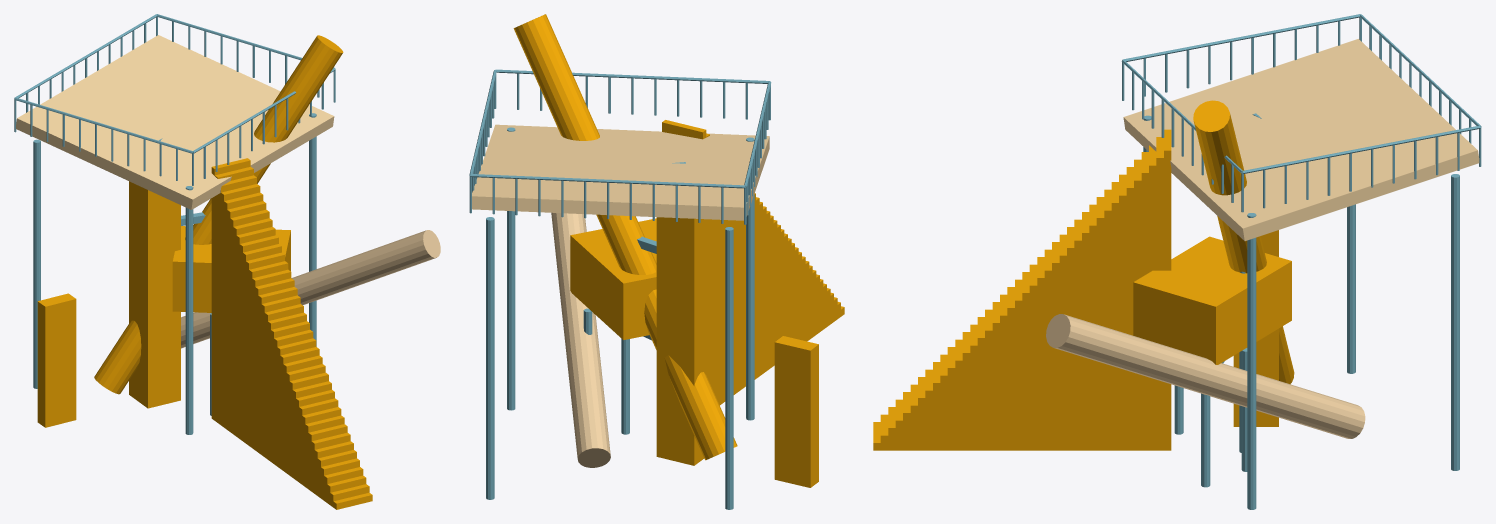
The model's file is folie_tag_059.glb.
3 renders of one model, left to right at view 1: azimuth 30°, elevation 25°; view 2: azimuth 150°, elevation 25°; view 3: azimuth 270°, elevation 25°, orthographic. The views are drawn at different scales.
Visible parts, largest first — view 1: folie_tag_059_stairs, folie_tag_059_00_plate, folie_tag_059_line, folie_tag_059_core, folie_tag_059_02_tube, folie_tag_059_03_tube, folie_tag_059_04_fin, folie_tag_059_01_block; view 2: folie_tag_059_00_plate, folie_tag_059_line, folie_tag_059_stairs, folie_tag_059_core, folie_tag_059_02_tube, folie_tag_059_03_tube, folie_tag_059_04_fin, folie_tag_059_01_block; view 3: folie_tag_059_stairs, folie_tag_059_00_plate, folie_tag_059_line, folie_tag_059_01_block, folie_tag_059_03_tube, folie_tag_059_02_tube, folie_tag_059_core.
Boxes of the visible parts, bbox=[...] form: folie_tag_059_stairs: bbox=[211, 158, 372, 509]; folie_tag_059_00_plate: bbox=[16, 35, 334, 209]; folie_tag_059_line: bbox=[14, 14, 335, 434]; folie_tag_059_core: bbox=[129, 181, 180, 408]; folie_tag_059_02_tube: bbox=[94, 35, 343, 394]; folie_tag_059_03_tube: bbox=[181, 230, 440, 348]; folie_tag_059_04_fin: bbox=[37, 293, 76, 427]; folie_tag_059_01_block: bbox=[172, 226, 290, 312]; folie_tag_059_00_plate: bbox=[472, 124, 769, 220]; folie_tag_059_line: bbox=[469, 69, 771, 509]; folie_tag_059_stairs: bbox=[662, 120, 844, 405]; folie_tag_059_core: bbox=[656, 217, 715, 465]; folie_tag_059_02_tube: bbox=[513, 14, 737, 460]; folie_tag_059_03_tube: bbox=[551, 212, 610, 467]; folie_tag_059_04_fin: bbox=[774, 336, 818, 487]; folie_tag_059_01_block: bbox=[570, 218, 656, 339]; folie_tag_059_stairs: bbox=[873, 129, 1171, 450]; folie_tag_059_00_plate: bbox=[1123, 39, 1479, 240]; folie_tag_059_line: bbox=[1121, 14, 1481, 509]; folie_tag_059_01_block: bbox=[1133, 236, 1291, 364]; folie_tag_059_03_tube: bbox=[1046, 314, 1365, 438]; folie_tag_059_02_tube: bbox=[1193, 100, 1294, 384]; folie_tag_059_core: bbox=[1233, 230, 1278, 426].
Bounding box in the file's own units: 10.59 × 10.7 × 14.7.
